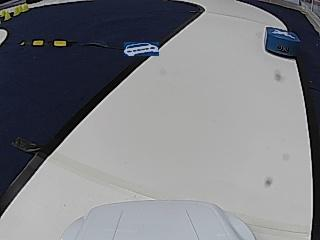prop: (265, 25, 300, 60)
